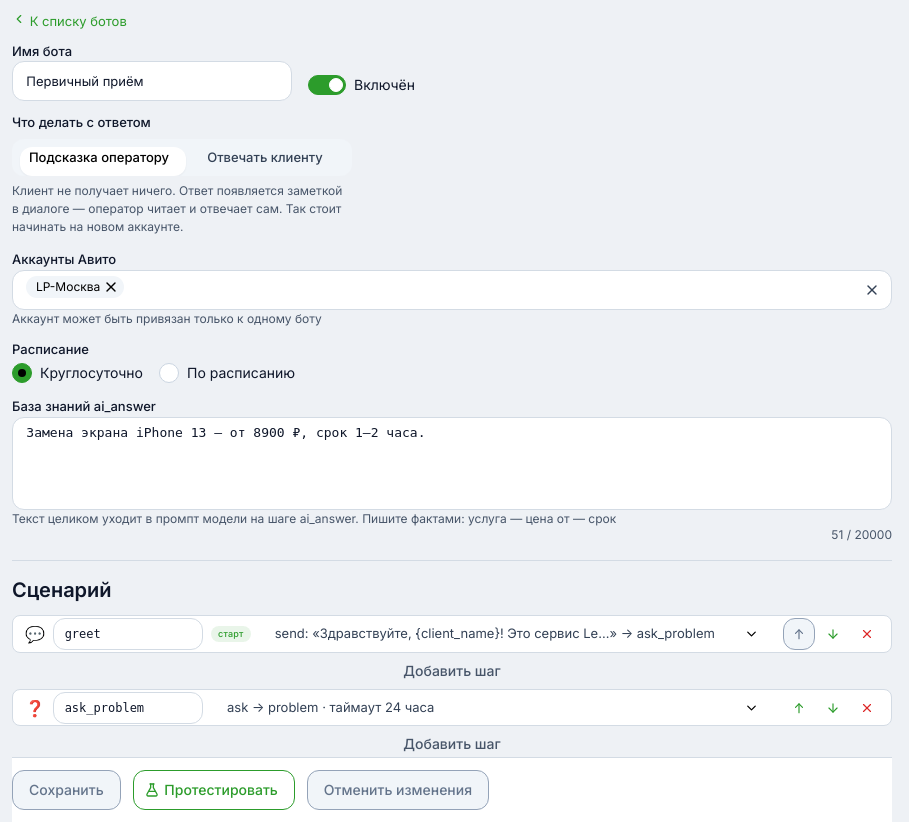
Test: Редактор бота — переименование шага › правка снимает объяснение, и свободное имя принимается
The image size is (909, 822).
Step 1. Replace the text in the field named "Идентификатор шага greet" with "ask_problem" → (128,634), box [53,618,203,650]
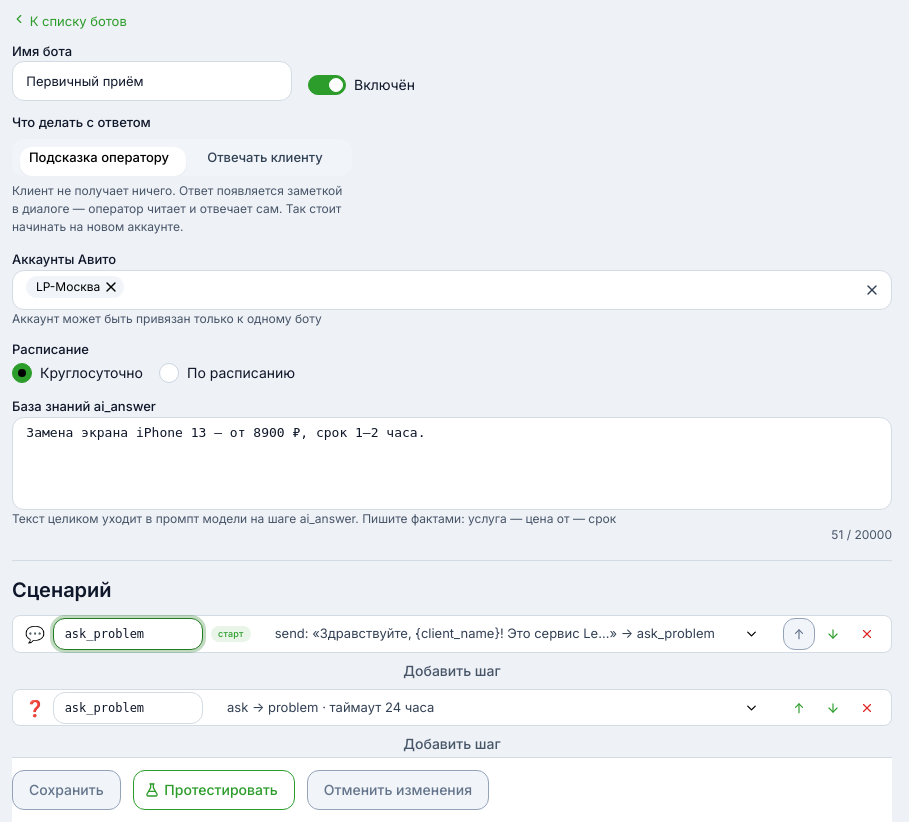
Step 2. Press Tab
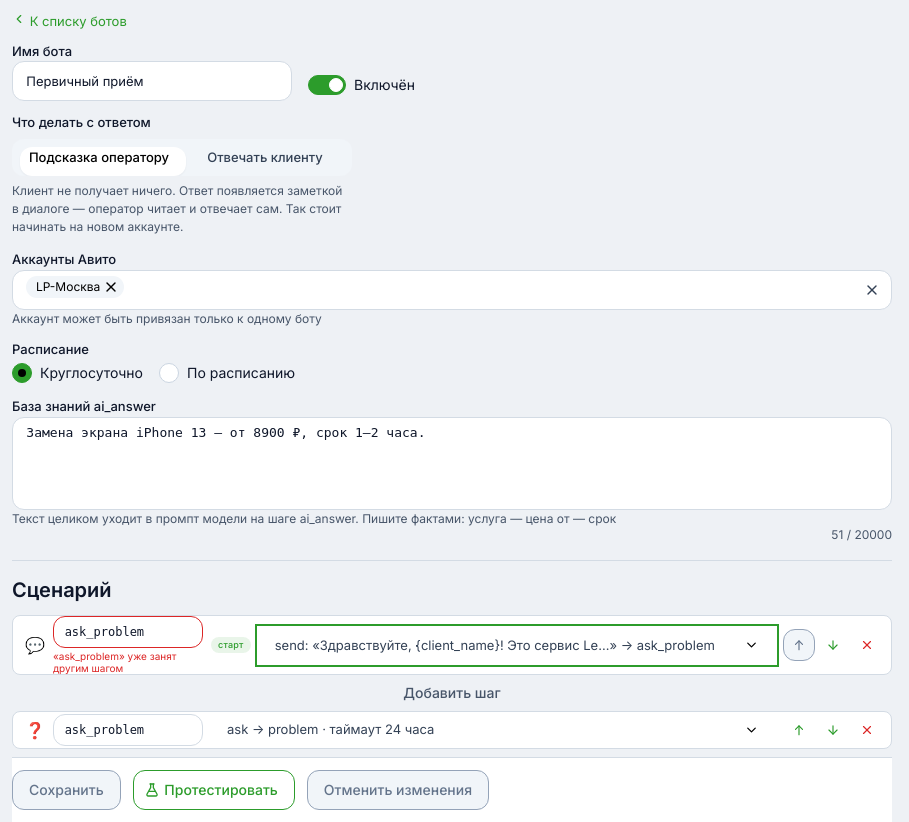
Expected: the text "«ask_problem» уже занят другим шагом" is shown, [53,650,176,674]
Step 3. Type "_2" into the field named "Идентификатор шага greet" → (128,632), box [53,616,203,648]
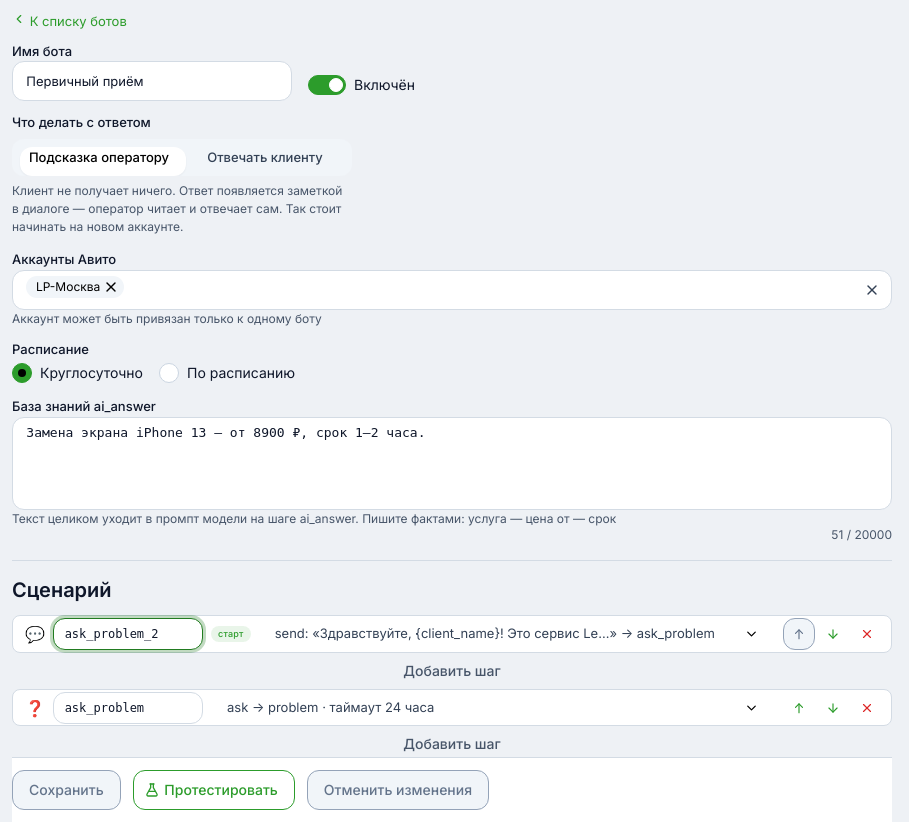
Expected: the text "«ask_problem» уже занят другим шагом" is gone
Step 4. Press Tab
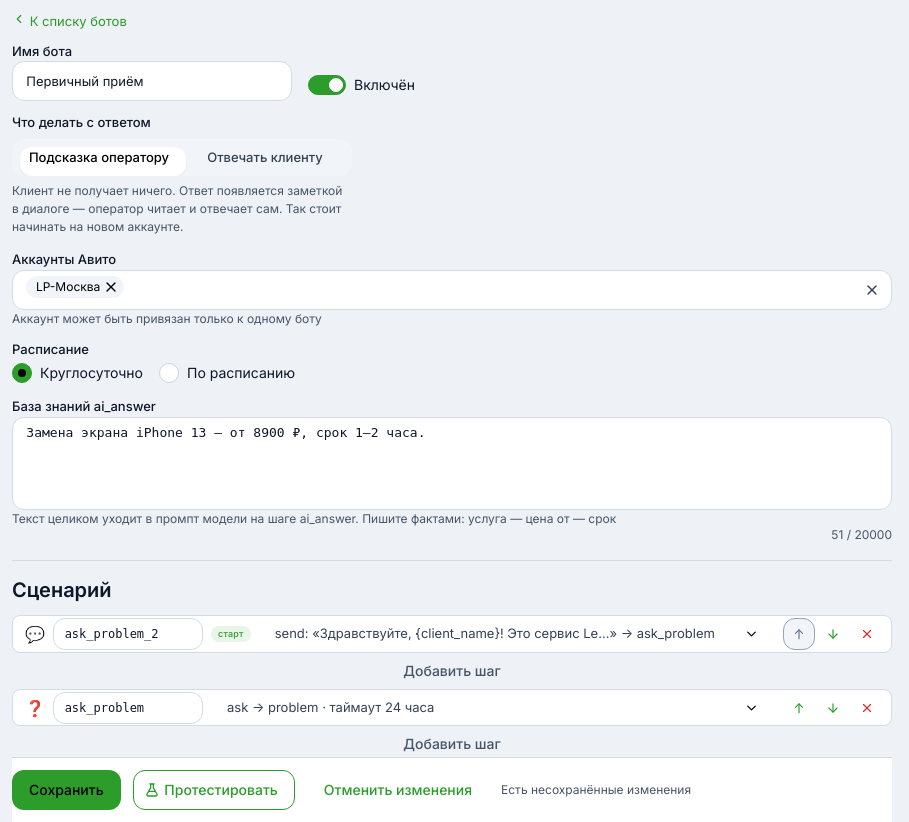
Expected: the field named "Идентификатор шага ask_problem_2" is shown, [53,618,203,650]
